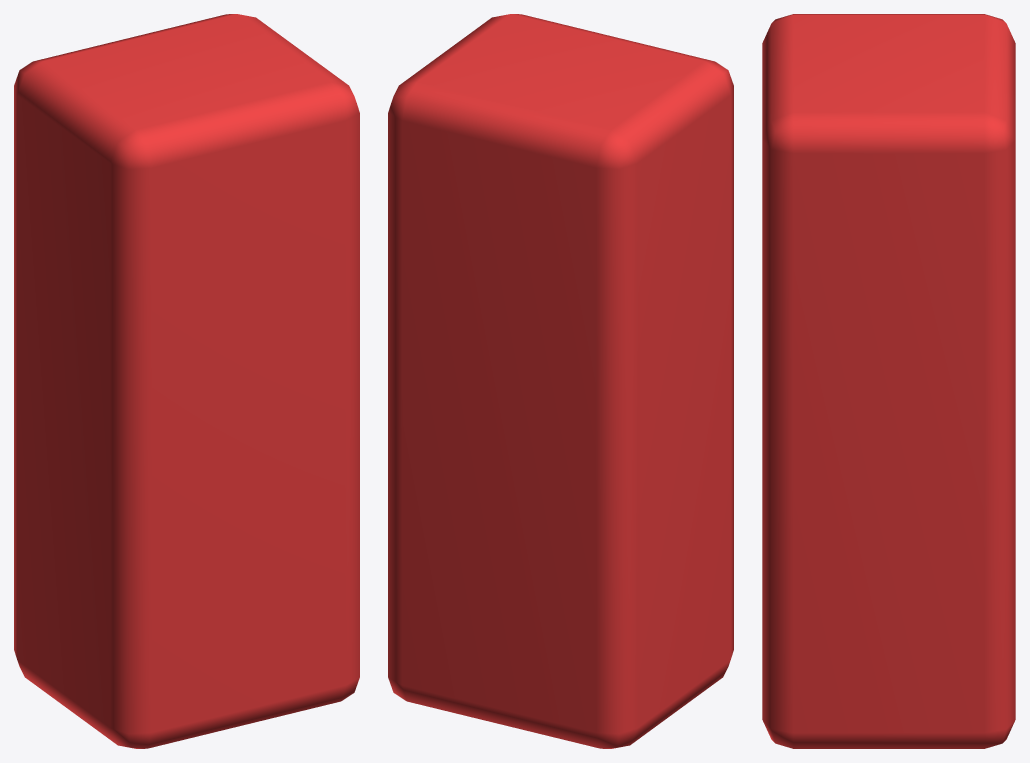
File: GEO_BrakeCaliper_Rear.L.glb
3 views of the same model, side by side, from view 1: azimuth 30°, elevation 25°; view 2: azimuth 150°, elevation 25°; view 3: azimuth 270°, elevation 25° (orthographic). The views are drawn at different scales.
Visible parts, largest first — view 1: GEO_BrakeCaliper_Rear.L; view 2: GEO_BrakeCaliper_Rear.L; view 3: GEO_BrakeCaliper_Rear.L.
Boxes of the visible parts, x1=… form: GEO_BrakeCaliper_Rear.L: x1=14, y1=14, x2=359, y2=748; GEO_BrakeCaliper_Rear.L: x1=388, y1=14, x2=733, y2=748; GEO_BrakeCaliper_Rear.L: x1=762, y1=14, x2=1015, y2=748.
Bounding box in the file's own units: 0.075 × 0.18 × 0.065.
